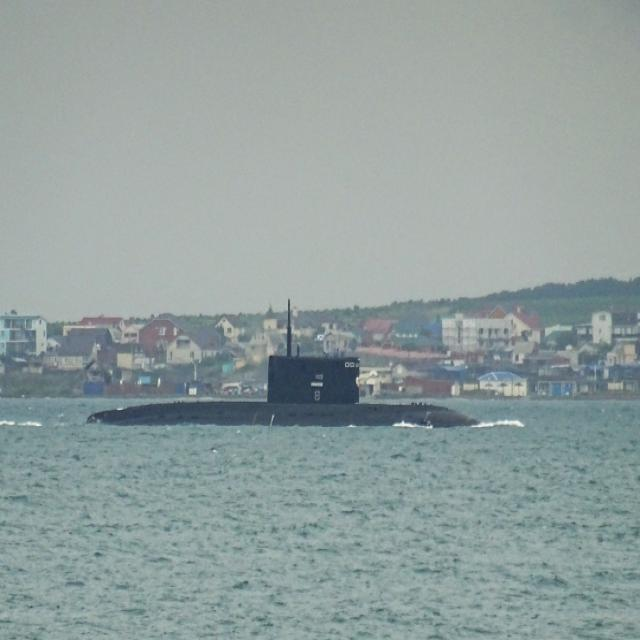submarine: (76, 347, 494, 432)
